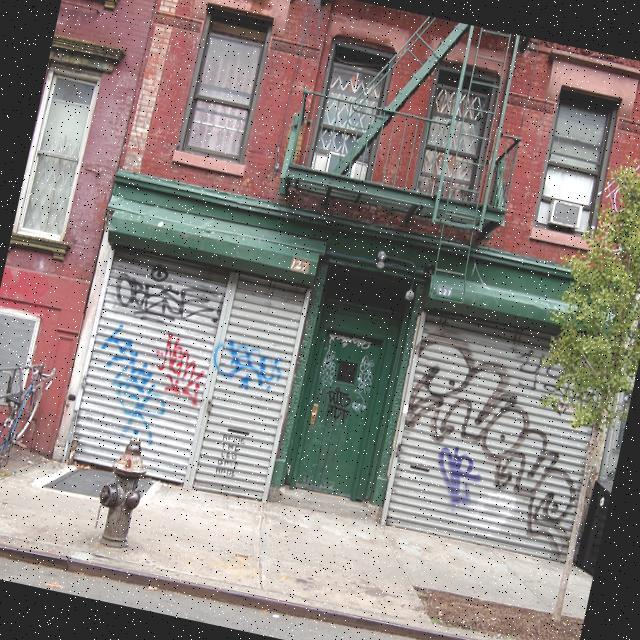fire_hydrant: (88, 432, 152, 550)
